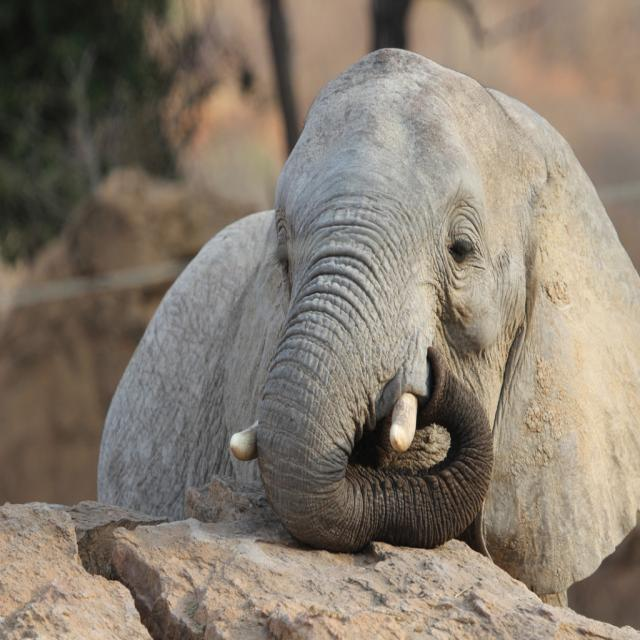elephant: (98, 48, 628, 587)
